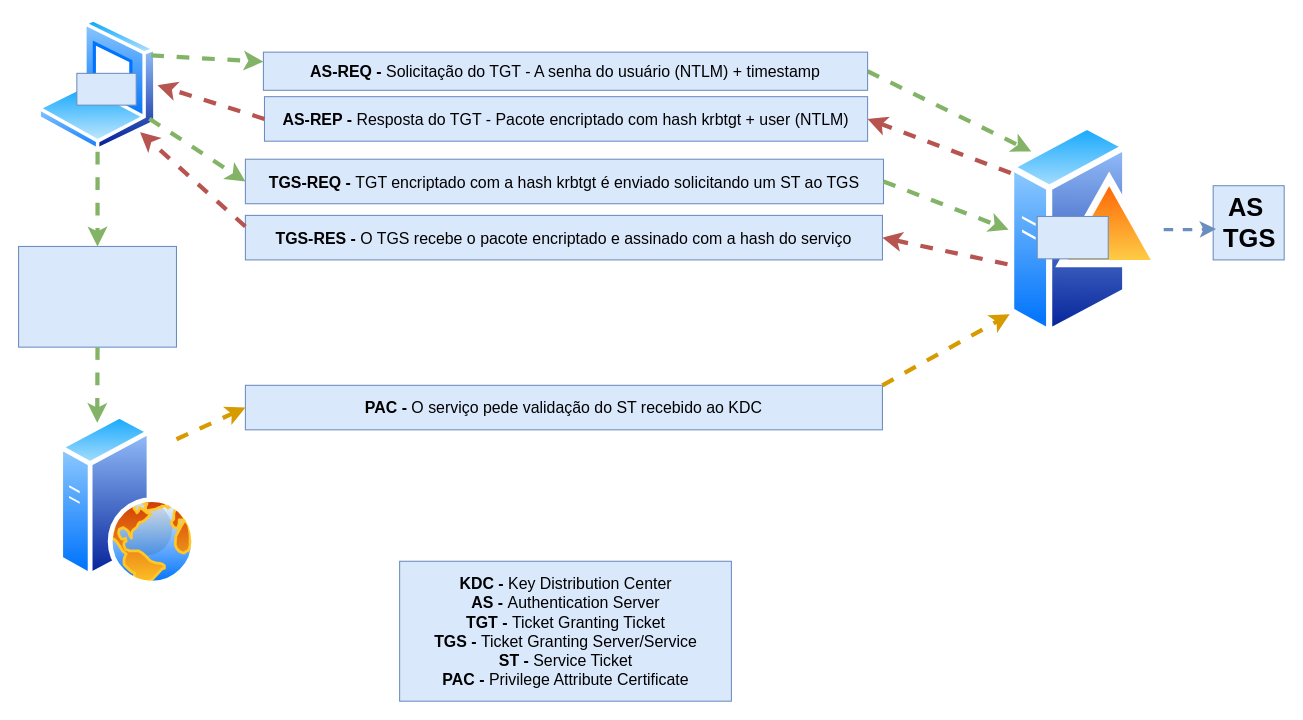
The diagram is 1303 pixels wide and 720 high, and some of its shapes have lost their labels. The centre of each missing label's shape, as x and y in pixels:
"AP-REP - Cliente acessa o serviço desejado" goes at (96,296).
"Client" goes at (106,88).
"KDC" goes at (1072,237).
